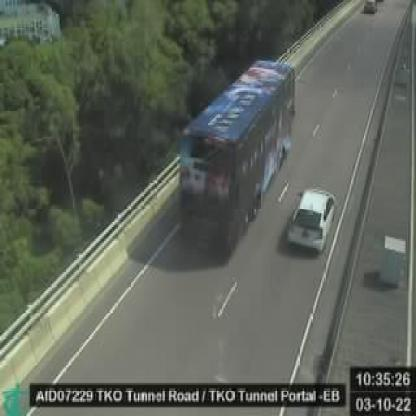Bus: (179, 54, 295, 248)
Car: (288, 185, 336, 255)
